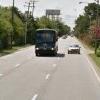Car: (62, 39, 87, 57)
